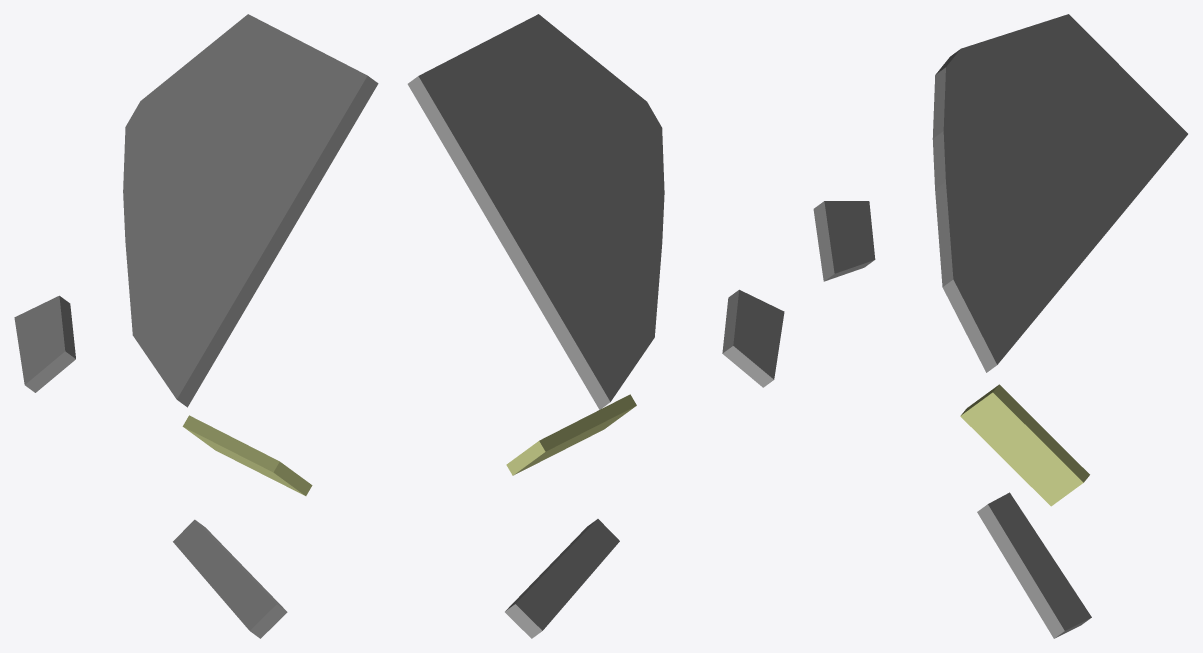
3 renders of one model, left to right at view 1: azimuth 30°, elevation 25°; view 2: azimuth 150°, elevation 25°; view 3: azimuth 330°, elevation 25°, orthographic.
Parts seen in each view (by area): view 1: 0_2_3_2_2_3_1_0; view 2: 0_2_3_2_2_3_1_0; view 3: 0_2_3_2_2_3_1_0.
Boxes of the visible parts, box(x1,y1,x2,y2) form: 0_2_3_2_2_3_1_0: box(14, 14, 378, 638); 0_2_3_2_2_3_1_0: box(407, 14, 784, 638); 0_2_3_2_2_3_1_0: box(813, 14, 1187, 638).
Size of the model in its own units: 57.11 by 93.57 by 10.43.
